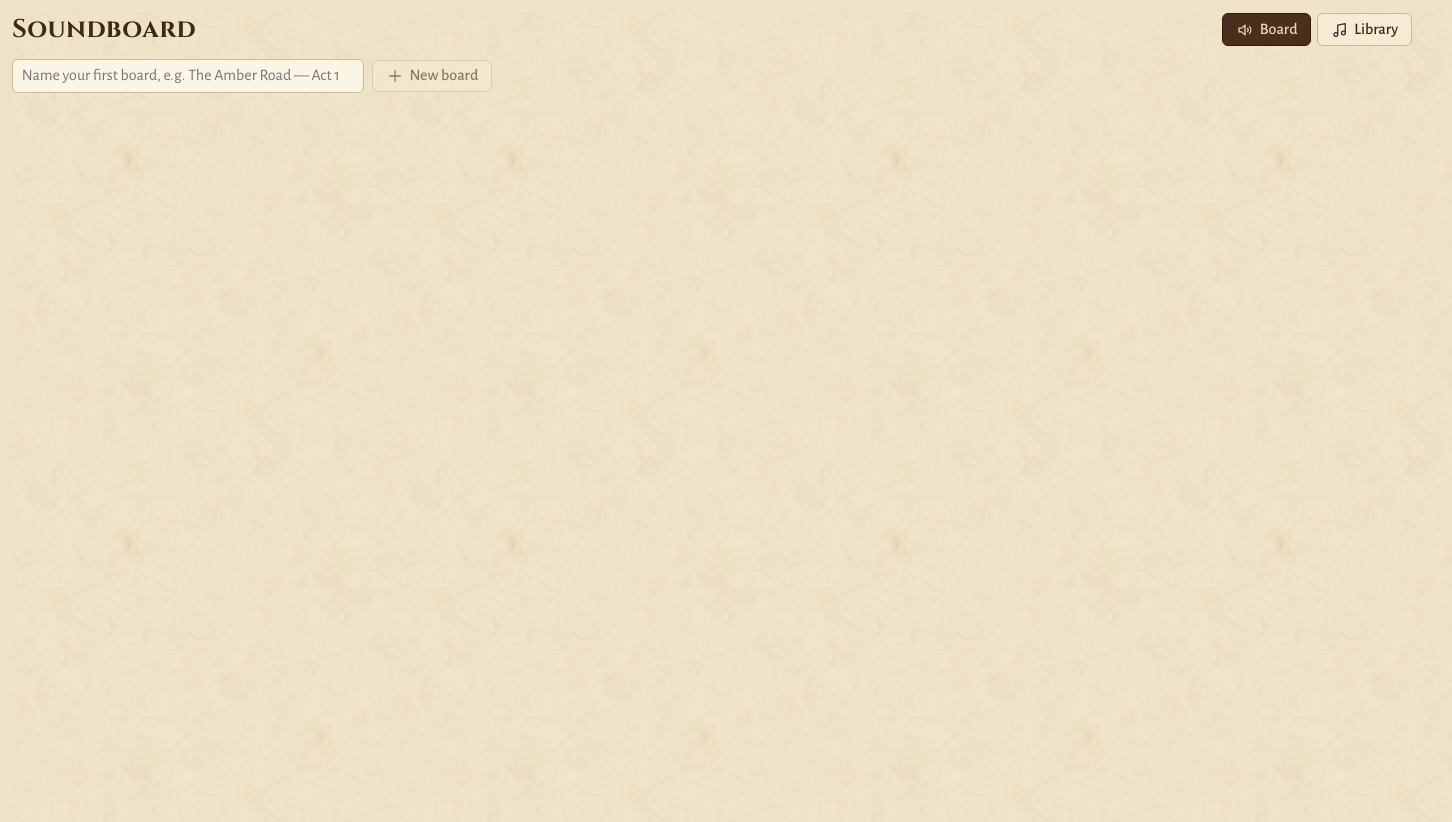
Test: with no boards yet, it asks for the first board's name
The width and height of the screenshot is (1452, 822).
Type "The Amber Road — Act 1" into the field with placeholder "Name your first board, e.g. The Amber Road — Act 1". click: (188, 76)
box: 12,59 -> 364,93
Then press Enter
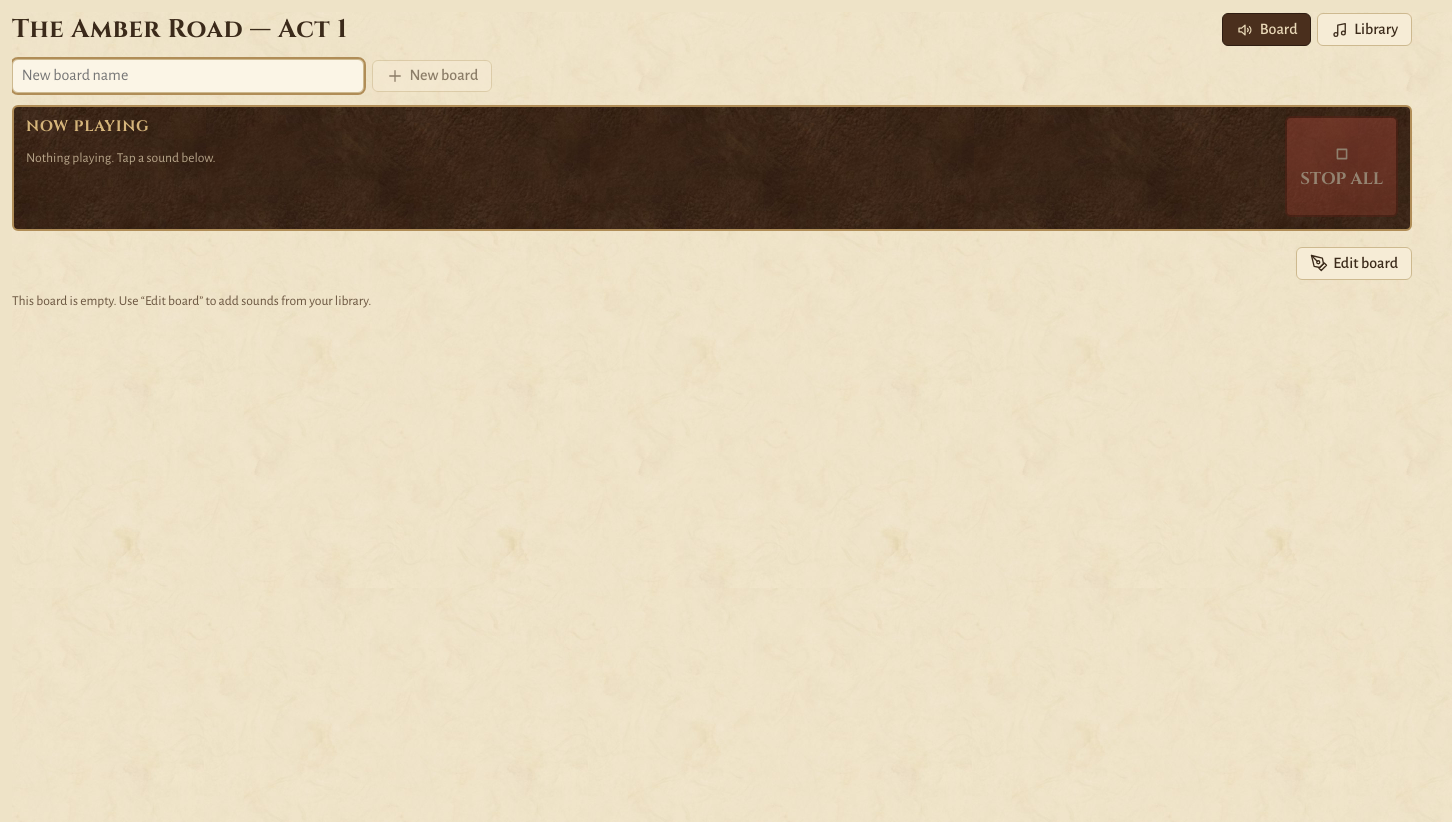
Result: the heading "The Amber Road — Act 1" is shown at 12,12 -> 348,47
